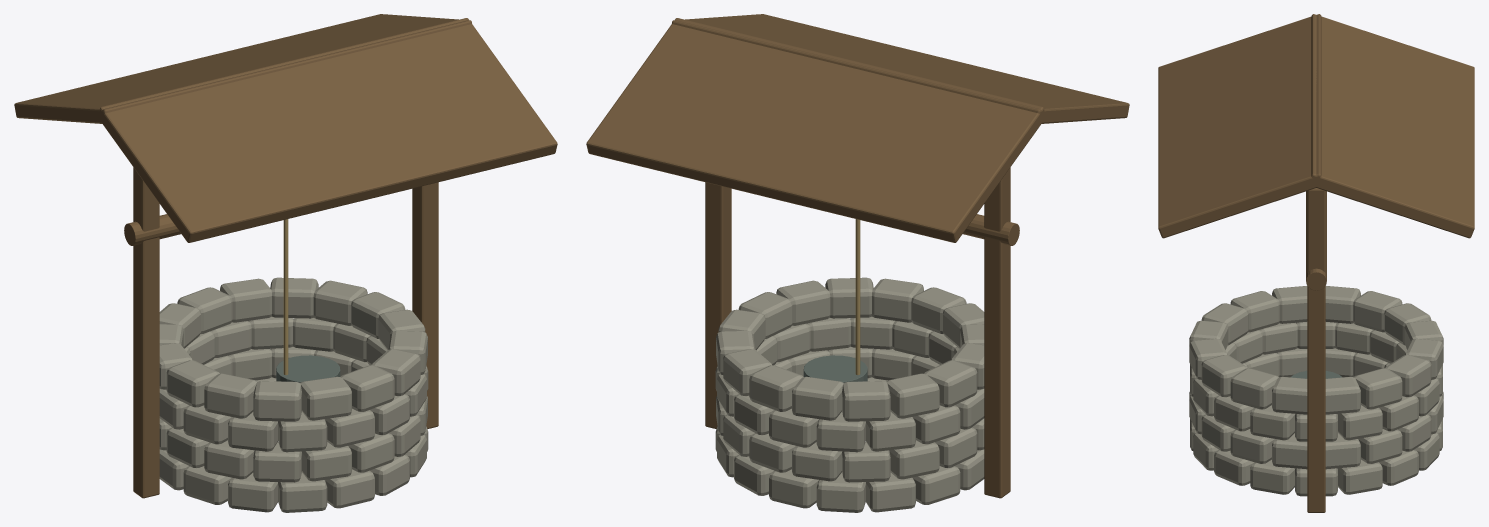
File: VillageWell.fbx
3 views of the same model, side by side, from view 1: azimuth 30°, elevation 25°; view 2: azimuth 150°, elevation 25°; view 3: azimuth 270°, elevation 25° (orthographic). The views are drawn at different scales.
Parts seen in each view (by area): view 1: VillageWell; view 2: VillageWell; view 3: VillageWell.
Part boxes in pixels (x1,y1,x2,y2): VillageWell: (14, 14, 557, 512); VillageWell: (586, 14, 1129, 512); VillageWell: (1158, 14, 1474, 512).
Size of the model in its own units: 330 by 274 by 339.
